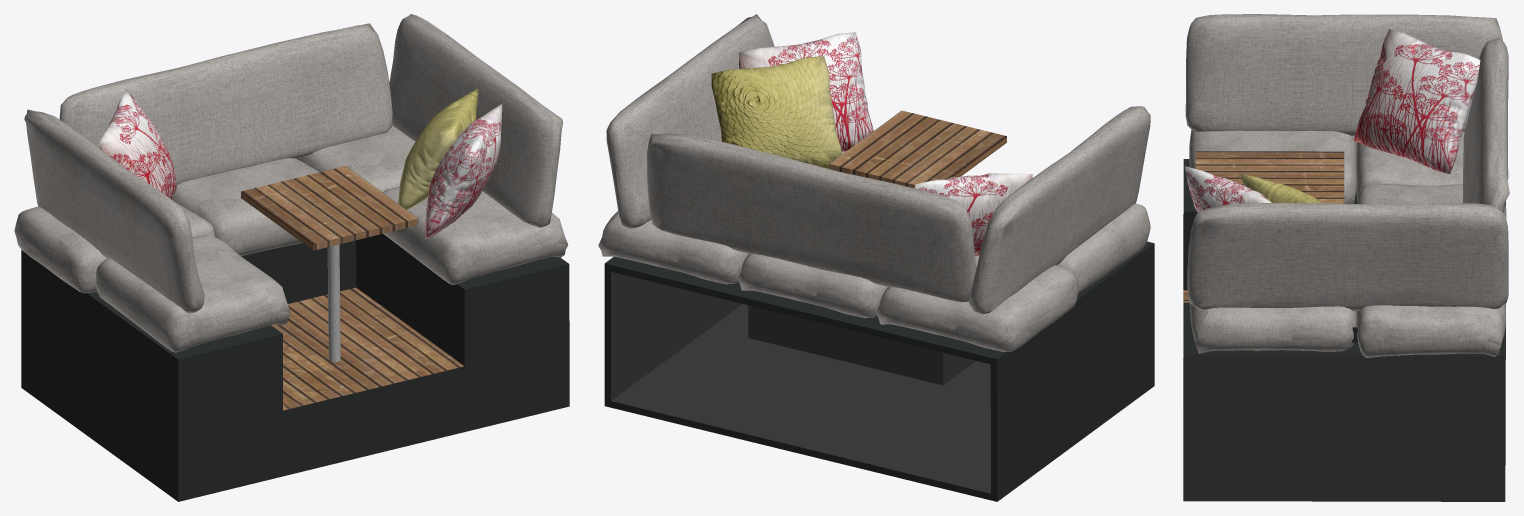
File: platform_bed.gltf
3 renders of one model, left to right at view 1: azimuth 30°, elevation 25°; view 2: azimuth 150°, elevation 25°; view 3: azimuth 270°, elevation 25°, orthographic. The views are drawn at different scales.
Visible parts, largest first — view 1: Material2.001, big-pillow, Material2.102, Material2.168, Material2.003, pillow.002, removable-pillow, Material2.105, pillow, Material2.170, pillow.001, Material2.104 (+3 smaller); view 2: Material2.002, Material2.001, big-pillow, Material2.102, Material2.168, Material2.171, pillow.001, Material2.105, Material2.170, pillow, pillow.003, pillow.002 (+1 smaller); view 3: Material2, Material2.168, Material2.102, Material2.104, pillow.003, removable-pillow, big-pillow, Material2.105, pillow.002, pillow.001, Material2.001, pillow (+2 smaller).
Boxes of the visible parts, x1,y1,x2,y2 form: Material2.001: (21, 234, 569, 501); big-pillow: (59, 23, 392, 184); Material2.102: (24, 109, 204, 313); Material2.168: (389, 14, 562, 227); Material2.003: (271, 287, 463, 410); pillow.002: (95, 235, 290, 352); removable-pillow: (382, 186, 568, 284); Material2.105: (241, 166, 418, 250); pillow: (171, 158, 319, 255); Material2.170: (425, 104, 502, 239); pillow.001: (14, 201, 215, 293); Material2.104: (99, 89, 176, 199); Material2.002: (611, 272, 990, 493); Material2.001: (604, 241, 1154, 501); big-pillow: (647, 133, 976, 301); Material2.102: (969, 106, 1150, 314); Material2.168: (606, 14, 774, 228); Material2.171: (711, 56, 841, 168); pillow.001: (876, 255, 1078, 351); Material2.105: (829, 110, 1006, 188); Material2.170: (739, 32, 873, 151); pillow: (737, 254, 887, 318); pillow.003: (598, 211, 748, 284); pillow.002: (1057, 203, 1150, 294); Material2: (1183, 355, 1505, 501); Material2.168: (1187, 203, 1508, 310); Material2.102: (1185, 14, 1502, 136); Material2.104: (1354, 29, 1480, 173); pillow.003: (1356, 303, 1505, 357); removable-pillow: (1189, 302, 1356, 353); big-pillow: (1462, 37, 1509, 212); Material2.105: (1195, 151, 1344, 209); pillow.002: (1189, 130, 1356, 203); pillow.001: (1356, 132, 1464, 201); Material2.001: (1183, 159, 1505, 409); pillow: (1358, 184, 1506, 217).
Bounding box in the file's own units: 0.9848 × 0.6458 × 0.649.
Materials: 14 (11 with a texture image).
